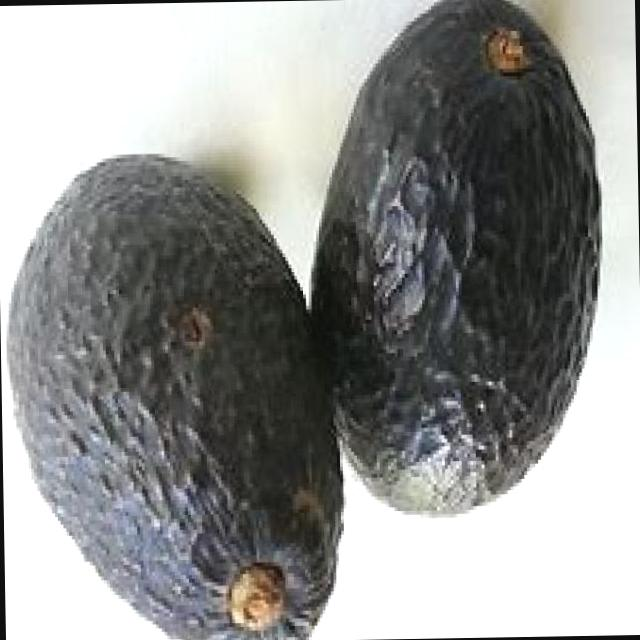avocado: (0, 149, 345, 640), (304, 0, 597, 520)
